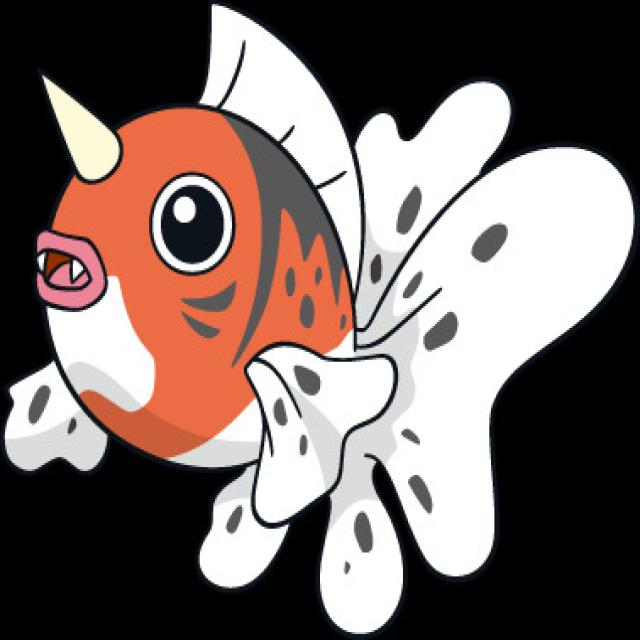Seaking: (31, 60, 490, 555)
